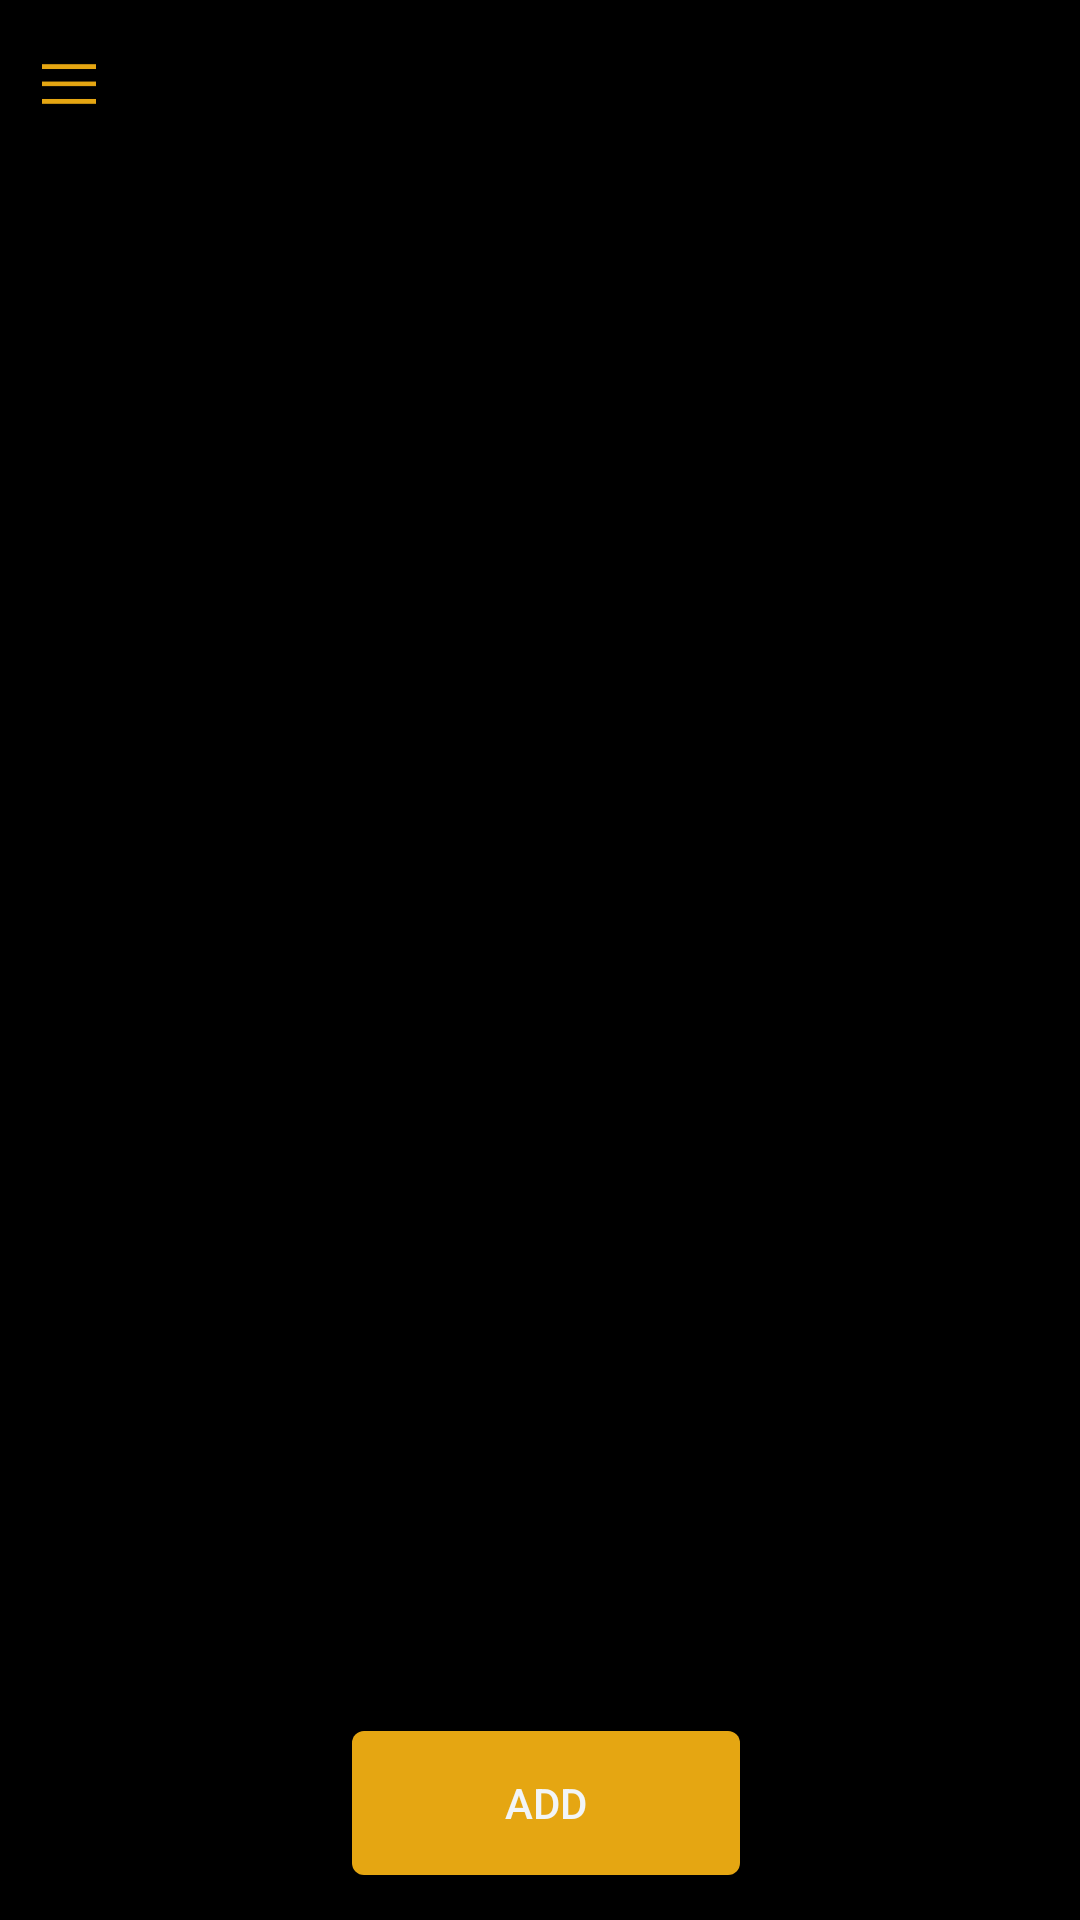

Named icons in this screenshot (1080×1920) and their bounding boxes, (x1, y1, x2, y2):
menu: (42, 64, 96, 104)
